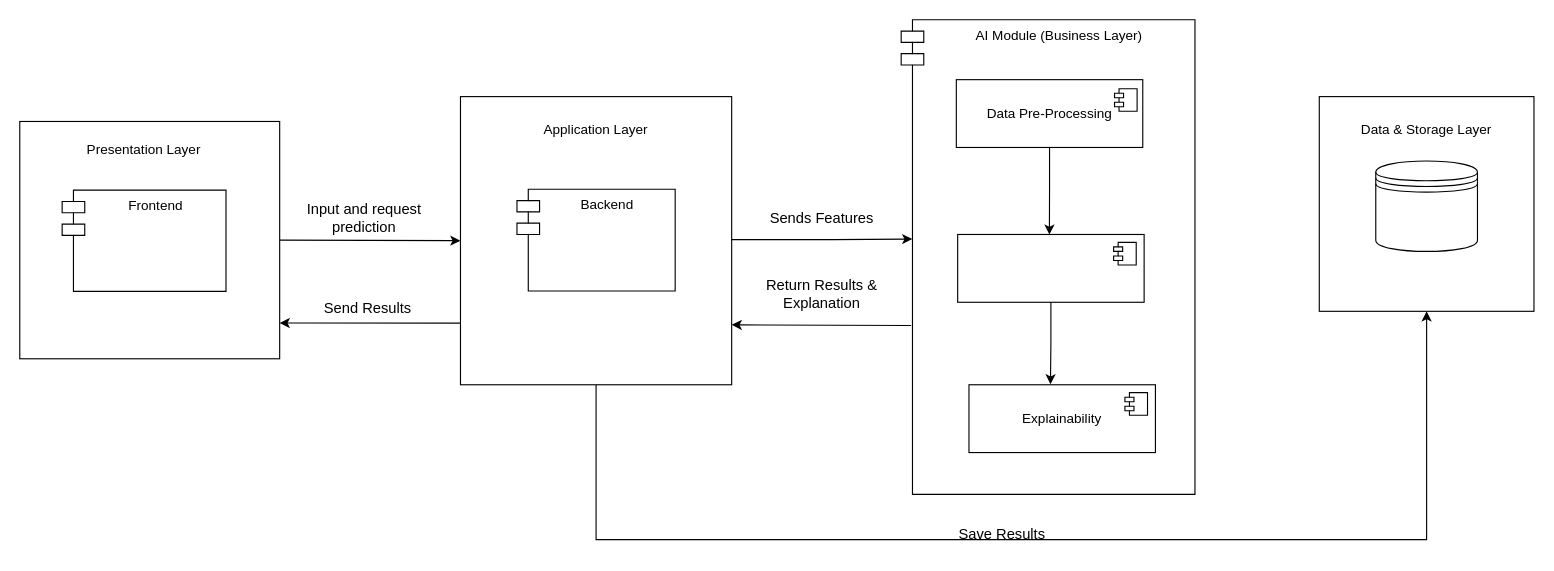
Some shapes in this 1554 by 571 pixel diagram are drawn without their labels. Each missing label, with the centre of its shape:
"Database" goes at point (1426, 205).
"Prediction Model" goes at point (1050, 267).
